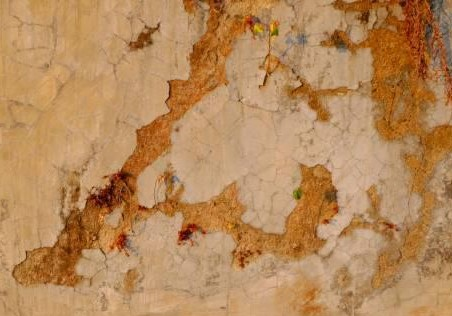Corrosion: (11, 1, 258, 287), (370, 1, 452, 290), (140, 162, 340, 270), (258, 52, 354, 121), (337, 183, 402, 240), (273, 277, 330, 316), (319, 29, 370, 51), (127, 20, 161, 52), (330, 1, 370, 13)
